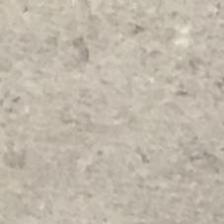Non_Crack: (17, 22, 224, 224)
